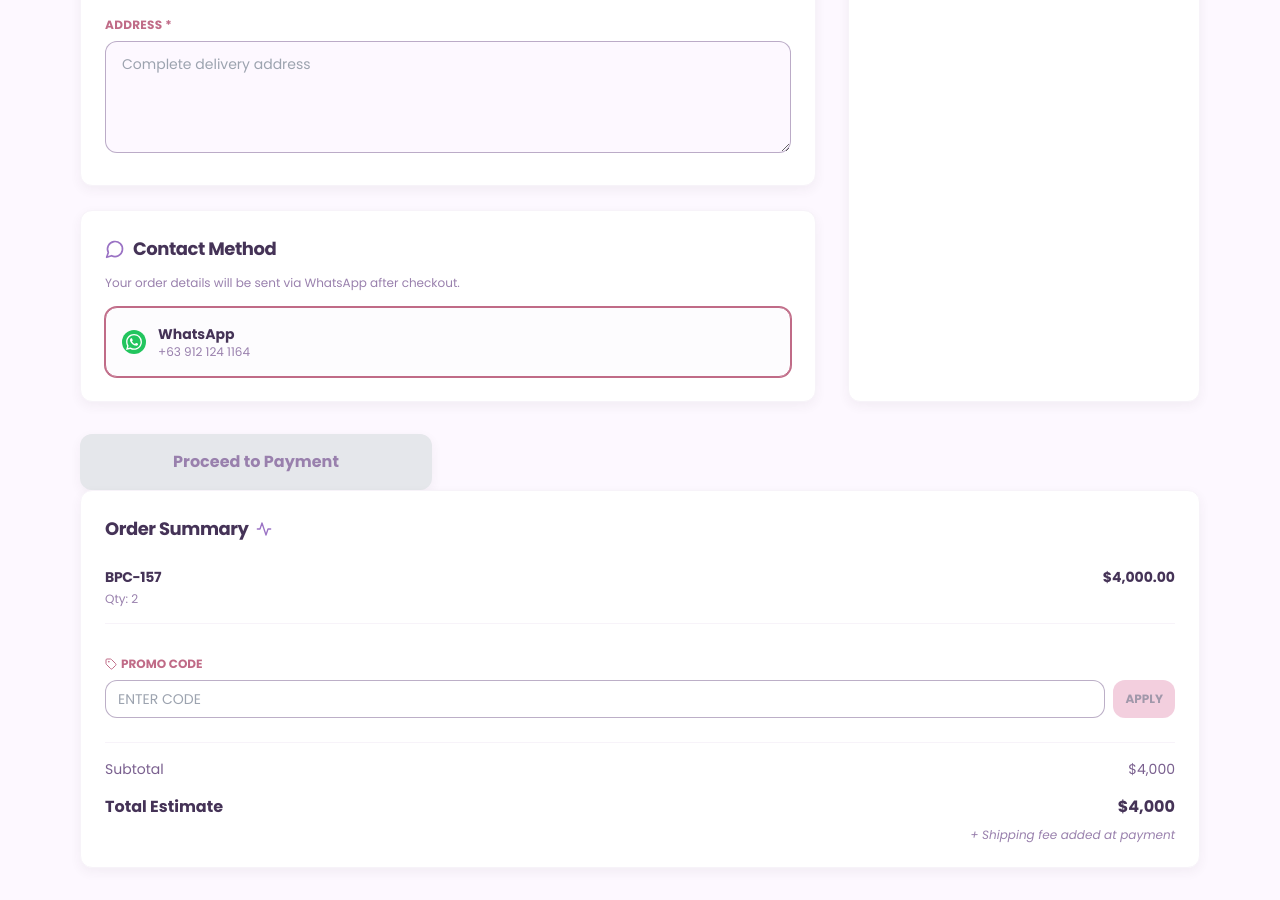
Checkout component › promo code › shows error for invalid promo code
(page scrolled)
Type "BADCODE" into the field with placeholder "ENTER CODE" at (605, 699), box top-left (105, 680), bottom-right (1105, 718)
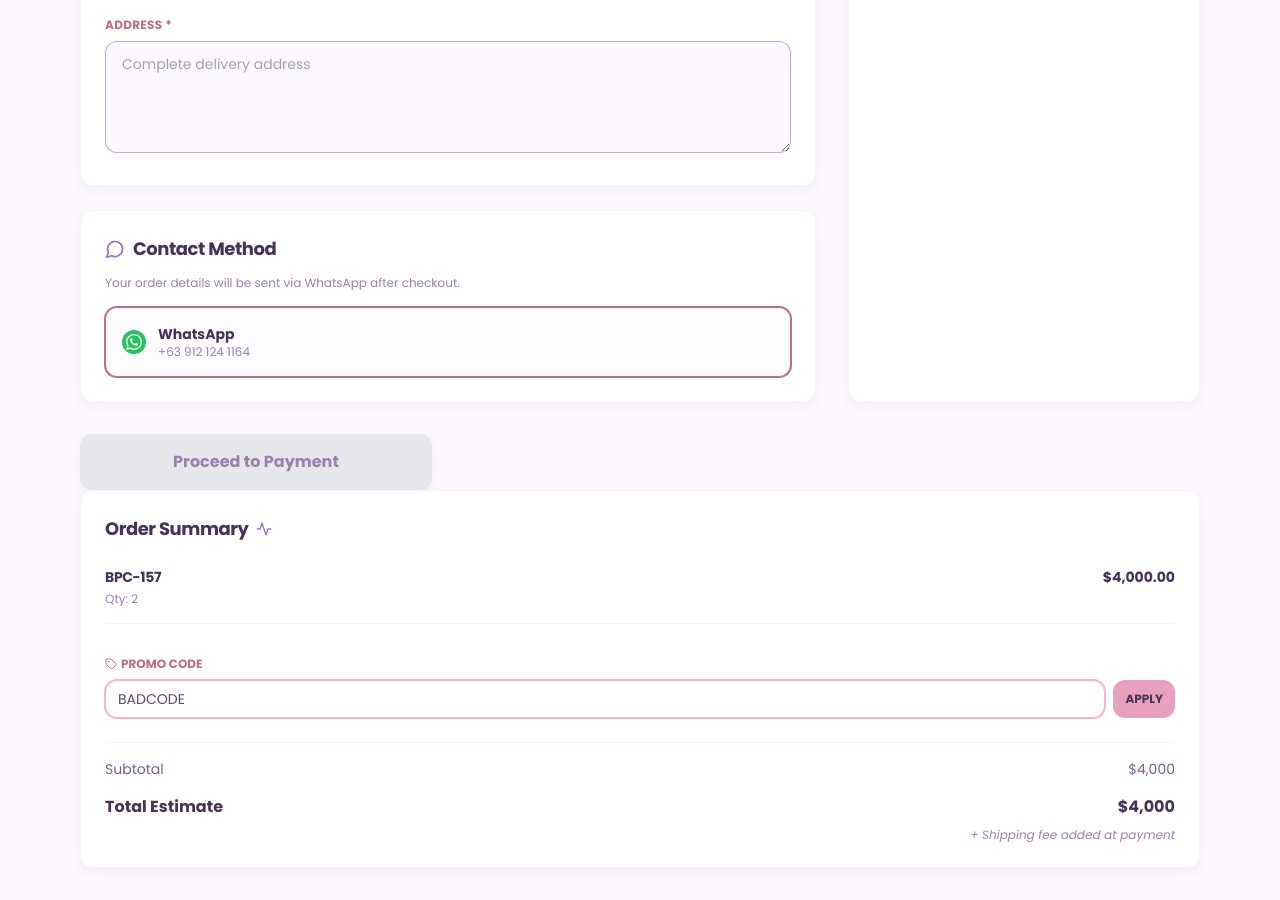
Click the button "APPLY" at (1144, 699), box top-left (1113, 680), bottom-right (1175, 718)
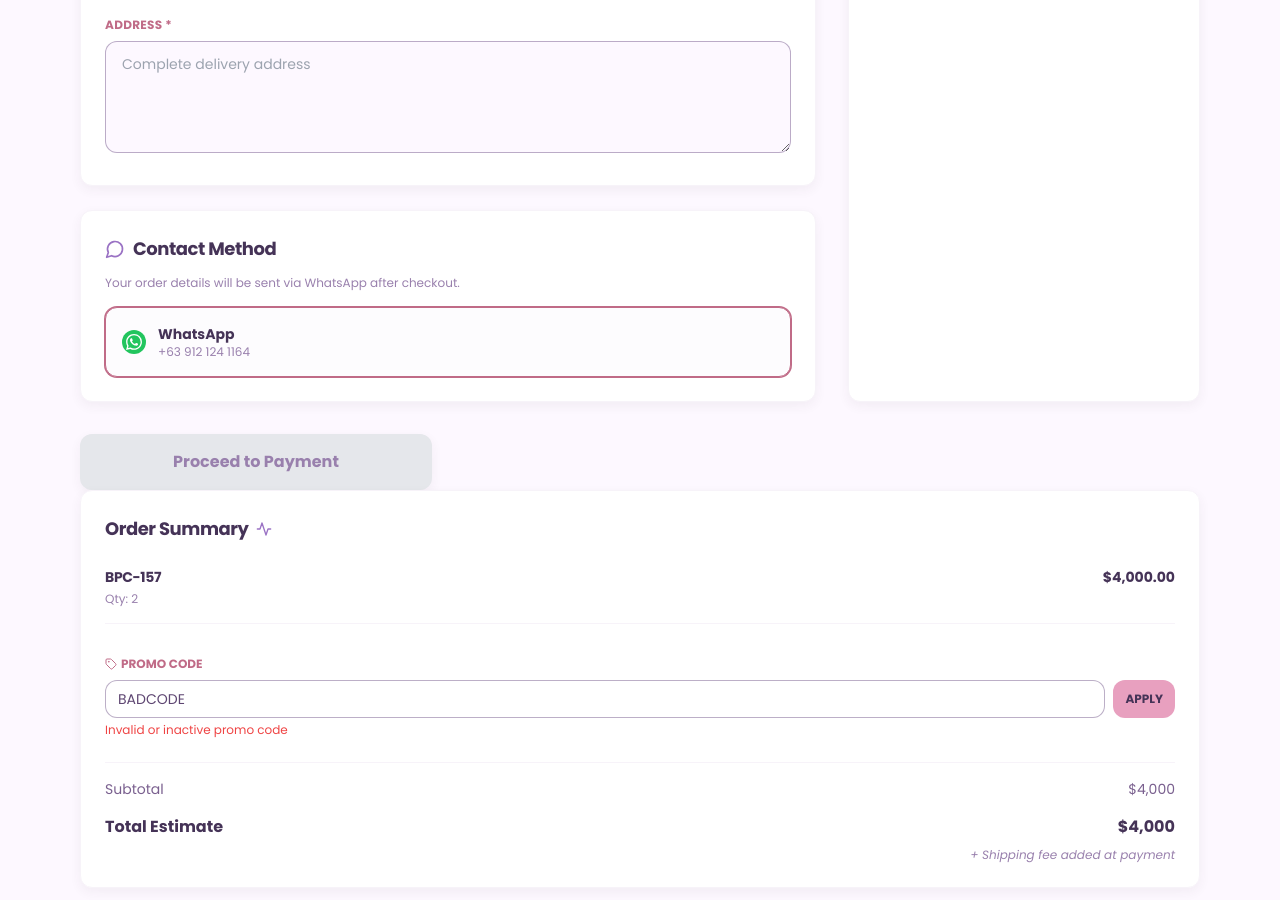
Now the text "Invalid or inactive promo code" is shown, box top-left (105, 721), bottom-right (288, 738)
